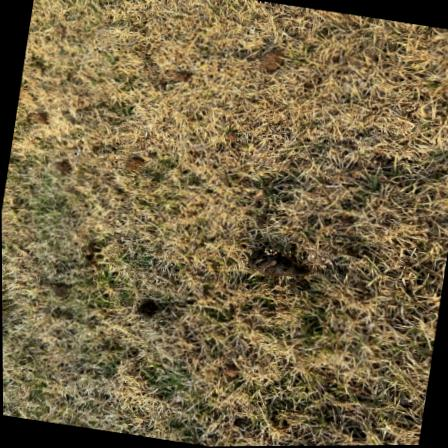dog-poop: (239, 245, 304, 284)
